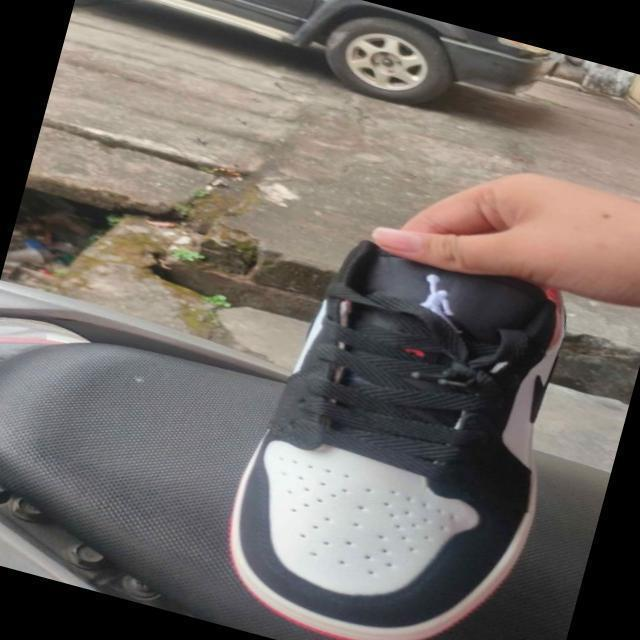nike fake jordan 1: (198, 219, 583, 640)
